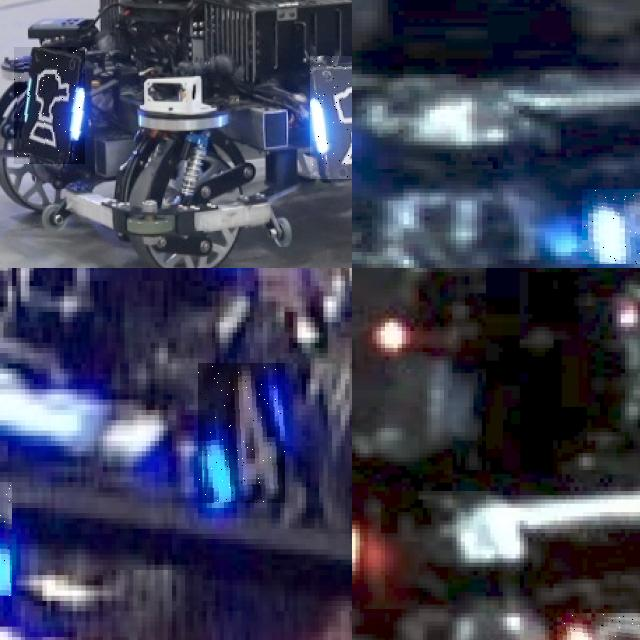B4: (198, 363, 285, 503)
Bs: (14, 47, 85, 164), (310, 56, 352, 179), (582, 189, 640, 264)
Rs: (557, 613, 640, 640)
